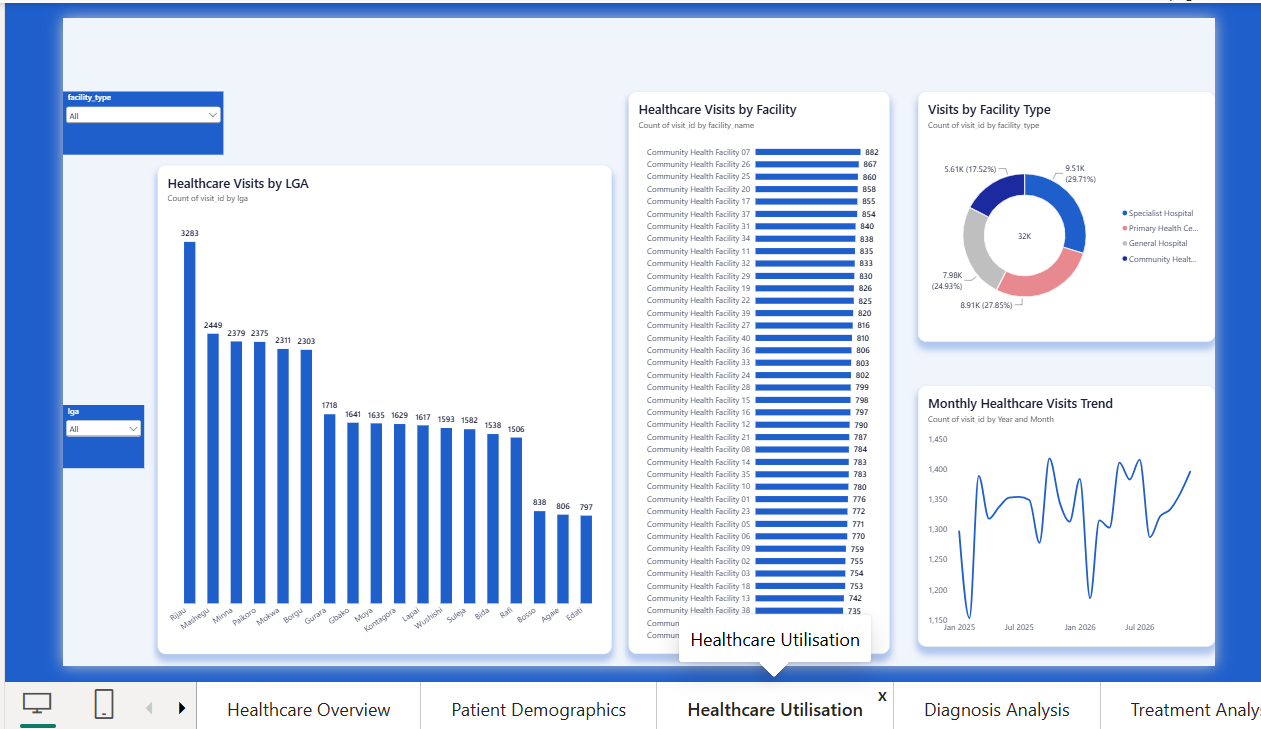

The page's visual inventory and layout, read from the dashboard file:
{"tool":"powerbi","page":{"name":"Healthcare Utilisation","canvas":[1920,1080],"ordinal":2},"visuals":[{"type":"clusteredBarChart","title":"Healthcare Visits by Facility","fields":{"Category":["public facilities.facility_name"],"Y":["CountNonNull(public visits.visit_id)"]},"box":[942.5,122.5,435,937.5],"z":0},{"type":"clusteredColumnChart","title":"Healthcare Visits by LGA","fields":{"Category":["public facilities.lga"],"Y":["CountNonNull(public visits.visit_id)"]},"box":[157.5,245,757.5,815],"z":1},{"type":"lineChart","title":"Monthly Healthcare Visits Trend","fields":{"Category":["public visits.visit_date.Variation.Date Hierarchy.Year","public visits.visit_date.Variation.Date Hierarchy.Month"],"Y":["CountNonNull(public visits.visit_id)"]},"box":[1425,612.5,495,435],"z":2},{"type":"donutChart","title":"Visits by Facility Type","fields":{"Category":["public facilities.facility_type"],"Y":["CountNonNull(public visits.visit_id)"]},"box":[1425,122.5,495,417.5],"z":3},{"type":"slicer","fields":{"Values":["public facilities.lga"]},"box":[0,645,135,105],"z":4},{"type":"slicer","fields":{"Values":["public facilities.facility_type"]},"box":[0,122.5,267.5,105],"z":5}]}

Visuals, with their boxes on the page's 1920x1080 design canvas (x1, y1, x2, y2). These are canvas units, not pixel positions in the 1261x729 screenshot, which may show the page scaled, cropped or inside an application window:
"Healthcare Visits by Facility" clusteredBarChart: BBox(942, 122, 1378, 1060)
"Healthcare Visits by LGA" clusteredColumnChart: BBox(158, 245, 915, 1060)
"Monthly Healthcare Visits Trend" lineChart: BBox(1425, 612, 1920, 1048)
"Visits by Facility Type" donutChart: BBox(1425, 122, 1920, 540)
slicer - public facilities.lga: BBox(0, 645, 135, 750)
slicer - public facilities.facility_type: BBox(0, 122, 268, 228)
